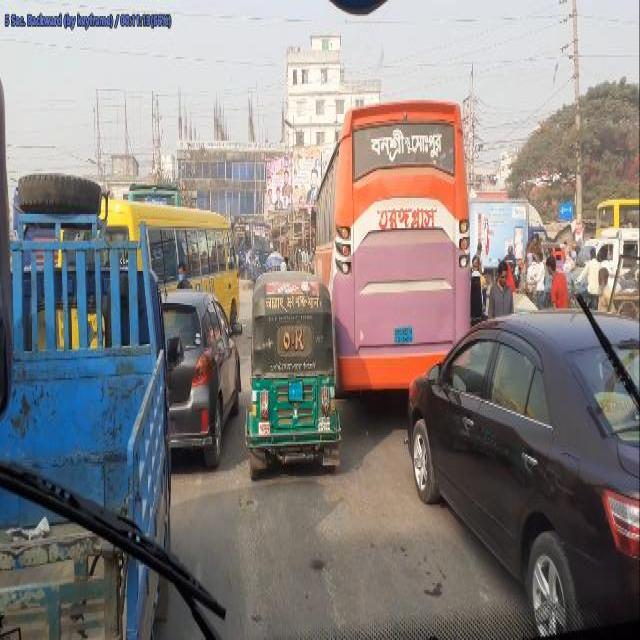11: (0, 169, 175, 636), (468, 195, 552, 277)
13: (262, 245, 290, 270), (290, 239, 312, 269)
17: (238, 268, 342, 480)
7: (570, 228, 638, 310)
8: (55, 198, 241, 356), (594, 194, 638, 236), (124, 179, 184, 201)
Truck: (315, 94, 471, 400), (226, 220, 274, 277)
